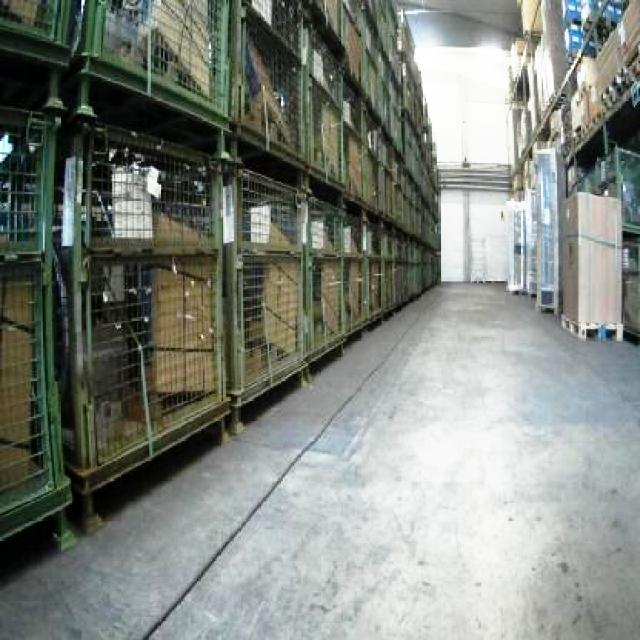ground: (0, 278, 638, 638)
pallet: (503, 0, 638, 638), (60, 117, 234, 528), (0, 88, 74, 594), (0, 254, 42, 523), (558, 189, 623, 340)
